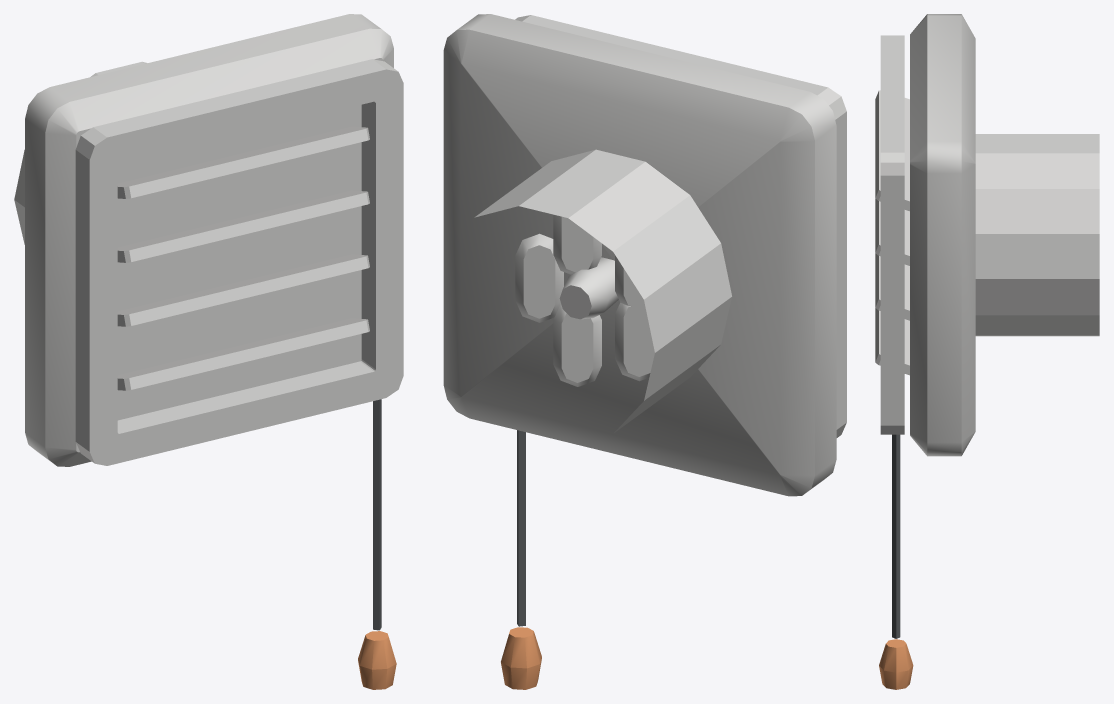
File: home-appliances-and-utility-extractor-fan-wall-6f8176d9__14151.glb
3 renders of one model, left to right at view 1: azimuth 30°, elevation 25°; view 2: azimuth 150°, elevation 25°; view 3: azimuth 270°, elevation 25°, orthographic. The views are drawn at different scales.
Visible parts, largest first — view 1: extractor-fan-wall; view 2: extractor-fan-wall; view 3: extractor-fan-wall.
Part boxes in pixels (x1,y1,x2,y2): extractor-fan-wall: [14, 14, 403, 689]; extractor-fan-wall: [443, 14, 846, 689]; extractor-fan-wall: [875, 14, 1099, 689].
Bounding box in the file's own units: 0.2 × 0.35 × 0.1301.
